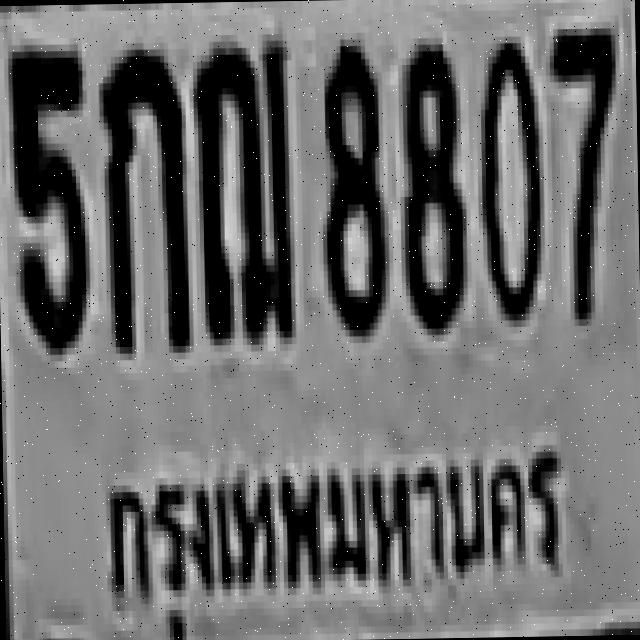0: (476, 32, 542, 317)
10GorGai: (98, 42, 185, 347)
21ChorChoe: (192, 34, 292, 338)
5: (8, 44, 86, 348)
7: (548, 21, 616, 313)
8: (397, 36, 464, 328), (319, 38, 382, 330)
Bangkok: (87, 436, 571, 614)
